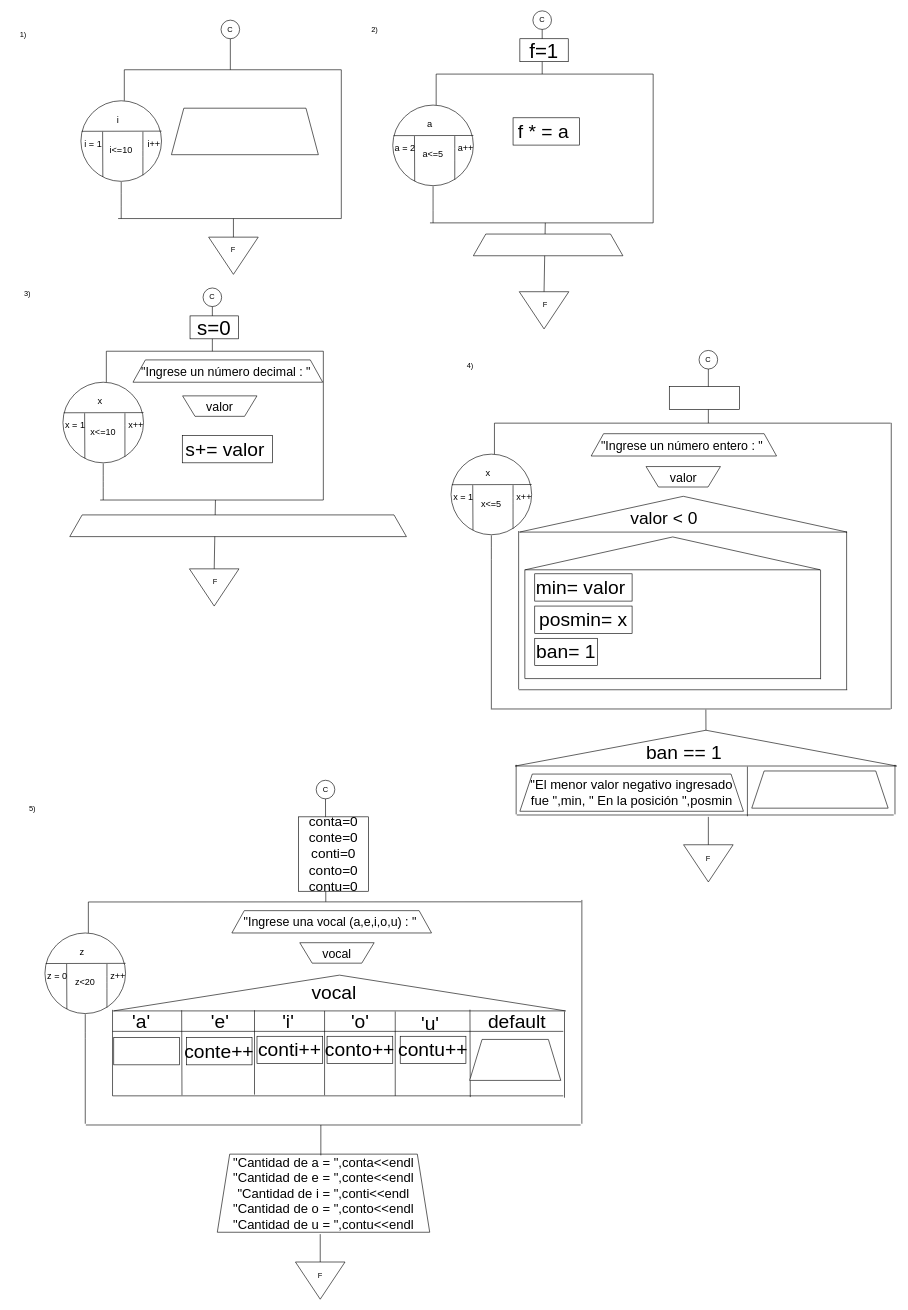
Some shapes in this 908 by 1310 pixel diagram are drawn without their labels. Here are the shapes that lost their labels. From the top down, the box of each, then its label:
(171, 108, 318, 155): "Valor",i,"-"
(473, 233, 623, 256): "Factorial del 5 = ",f
(669, 386, 739, 410): ban=0
(69, 514, 406, 537): "La sumatoria de los ",x-1," valores ingresados es = ",s
(525, 536, 820, 570): ban ==0 || valor < min
(751, 770, 888, 808): "No se ingresaron valores negativos"
(113, 1037, 179, 1065): conta++
(469, 1039, 561, 1080): "Error, el caracter ingresado no es una vocal"
